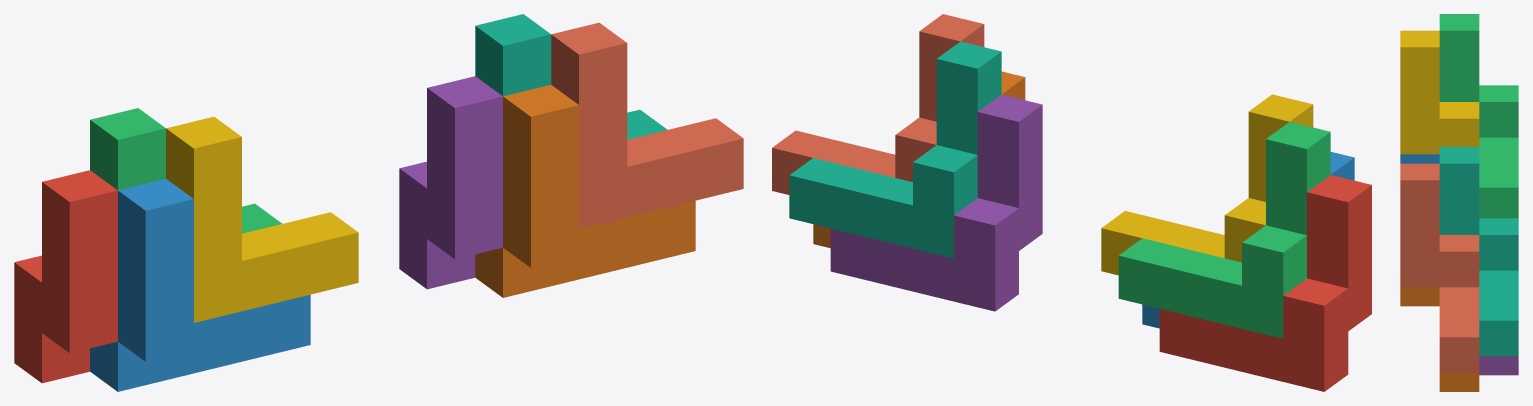
File: tiling.obj
3 renders of one model, left to right at view 1: azimuth 30°, elevation 25°; view 2: azimuth 150°, elevation 25°; view 3: azimuth 270°, elevation 25°, orthographic. The views are drawn at different scales.
Parts seen in each view (by area): view 1: copy_1_domain_2, copy_1_domain_6, copy_1_domain_8, copy_1_domain_4, copy_1_domain_5, copy_1_domain_1, copy_1_domain_7, copy_1_domain_3; view 2: copy_1_domain_5, copy_1_domain_1, copy_1_domain_7, copy_1_domain_3, copy_1_domain_4, copy_1_domain_8, copy_1_domain_2, copy_1_domain_6; view 3: copy_1_domain_8, copy_1_domain_7, copy_1_domain_3, copy_1_domain_4, copy_1_domain_6, copy_1_domain_5, copy_1_domain_2.
Part boxes in pixels (x1=…): copy_1_domain_2: x1=90, y1=179, x2=310, y2=391; copy_1_domain_6: x1=475, y1=85, x2=695, y2=297; copy_1_domain_8: x1=551, y1=22, x2=743, y2=228; copy_1_domain_4: x1=166, y1=116, x2=358, y2=322; copy_1_domain_5: x1=399, y1=76, x2=502, y2=289; copy_1_domain_1: x1=14, y1=170, x2=117, y2=383; copy_1_domain_7: x1=475, y1=14, x2=667, y2=139; copy_1_domain_3: x1=90, y1=108, x2=282, y2=233; copy_1_domain_5: x1=830, y1=94, x2=1042, y2=311; copy_1_domain_1: x1=1159, y1=175, x2=1371, y2=391; copy_1_domain_7: x1=789, y1=41, x2=1001, y2=258; copy_1_domain_3: x1=1118, y1=122, x2=1330, y2=338; copy_1_domain_4: x1=1101, y1=94, x2=1313, y2=275; copy_1_domain_8: x1=772, y1=14, x2=984, y2=194; copy_1_domain_2: x1=1142, y1=152, x2=1354, y2=328; copy_1_domain_6: x1=813, y1=71, x2=1025, y2=248; copy_1_domain_8: x1=1400, y1=163, x2=1479, y2=372; copy_1_domain_7: x1=1439, y1=147, x2=1518, y2=356; copy_1_domain_3: x1=1439, y1=14, x2=1518, y2=218; copy_1_domain_4: x1=1400, y1=30, x2=1479, y2=154; copy_1_domain_6: x1=1400, y1=287, x2=1479, y2=391; copy_1_domain_5: x1=1479, y1=356, x2=1518, y2=375; copy_1_domain_2: x1=1400, y1=154, x2=1439, y2=163.
Bounding box in the file's own units: 14 × 5 × 3.
